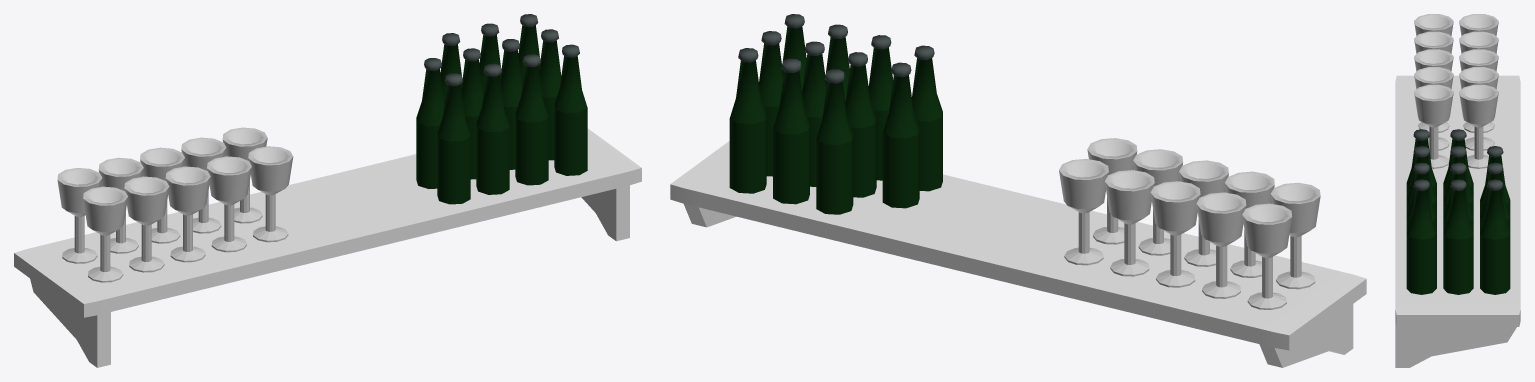
The model's file is Estanteria2.fbx.
3 views of the same model, side by side, from view 1: azimuth 30°, elevation 25°; view 2: azimuth 150°, elevation 25°; view 3: azimuth 270°, elevation 25° (orthographic). The views are drawn at different scales.
Parts seen in each view (by area): view 1: Estanteria2, Botella023, Botella017, Botella014, Botella020, Botella022, Vaso043, Vaso044, Vaso046, Vaso047, Vaso045, Vaso038 (+10 smaller); view 2: Estanteria2, Botella012, Botella022, Botella018, Botella015, Botella019, Botella023, Vaso041, Vaso039, Vaso040, Vaso042, Vaso038 (+10 smaller); view 3: Estanteria2, Botella012, Botella014, Botella013, Vaso042, Vaso047, Vaso041, Vaso040, Vaso045, Vaso046, Vaso039, Vaso044 (+10 smaller).
Boxes of the visible parts, x1,y1,x2,y2 form: Estanteria2: (14,128,641,367); Botella023: (437,73,470,204); Botella017: (515,54,548,185); Botella014: (554,44,587,175); Botella020: (476,63,509,194); Botella022: (416,58,444,188); Vaso043: (83,186,127,282); Vaso044: (124,176,169,272); Vaso046: (207,156,251,252); Vaso047: (248,146,293,242); Vaso045: (165,166,210,262); Vaso038: (57,168,102,263); Estanteria2: (670,141,1366,367); Botella012: (729,48,766,193); Botella022: (882,62,919,208); Botella018: (816,69,853,214); Botella015: (773,58,809,204); Botella019: (845,52,876,197); Botella023: (912,45,942,191); Vaso041: (1104,170,1154,276); Vaso039: (1196,192,1246,298); Vaso040: (1150,181,1200,287); Vaso042: (1059,159,1108,265); Vaso038: (1242,203,1292,309); Estanteria2: (1395,75,1520,367); Botella012: (1480,179,1510,294); Botella014: (1406,179,1436,294); Botella013: (1443,179,1473,294); Vaso042: (1459,84,1498,168); Vaso047: (1414,84,1453,168); Vaso041: (1459,67,1498,150); Vaso040: (1459,49,1498,132); Vaso045: (1414,49,1453,132); Vaso046: (1414,67,1453,150); Vaso039: (1459,31,1498,53); Vaso044: (1414,31,1453,53).
Bounding box in the file's own units: 14.77 × 4.8 × 3.26.
